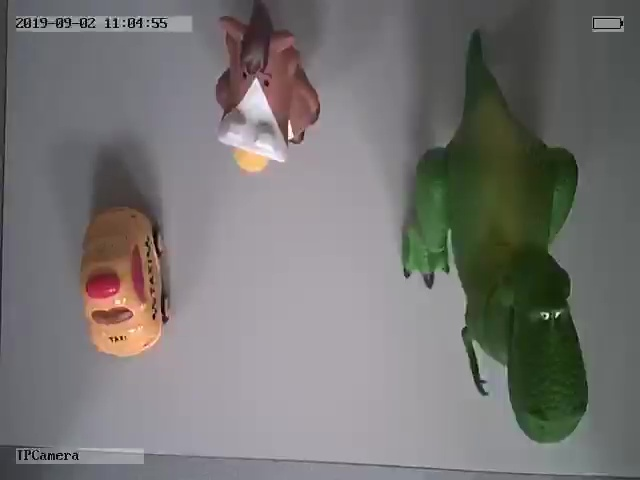car: (80, 205, 172, 357)
horse: (214, 7, 321, 172)
rex: (400, 40, 588, 443)
